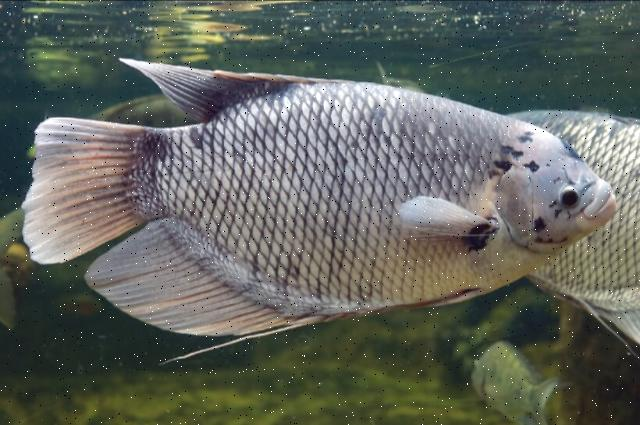Sirip Anal: (71, 208, 351, 358)
Sirip Dada: (381, 181, 509, 272), (546, 159, 632, 247)
Sirip Ekor: (11, 106, 189, 268)
Sirip Punggung: (96, 42, 326, 138)
